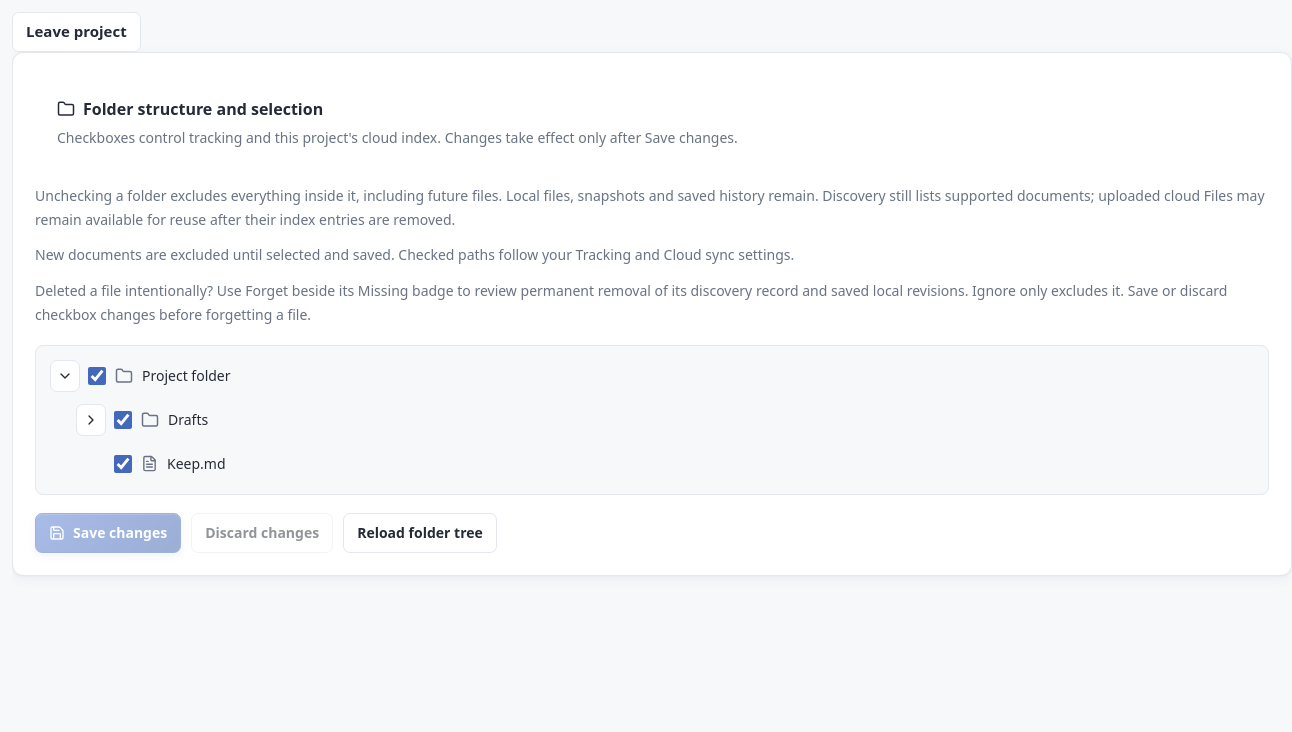
it: keeps checkbox edits local until Save, then verifies persistent folder exclusion
Click the checkbox named "Include Drafts" at coordinates (123, 420), box [114,411,132,429]
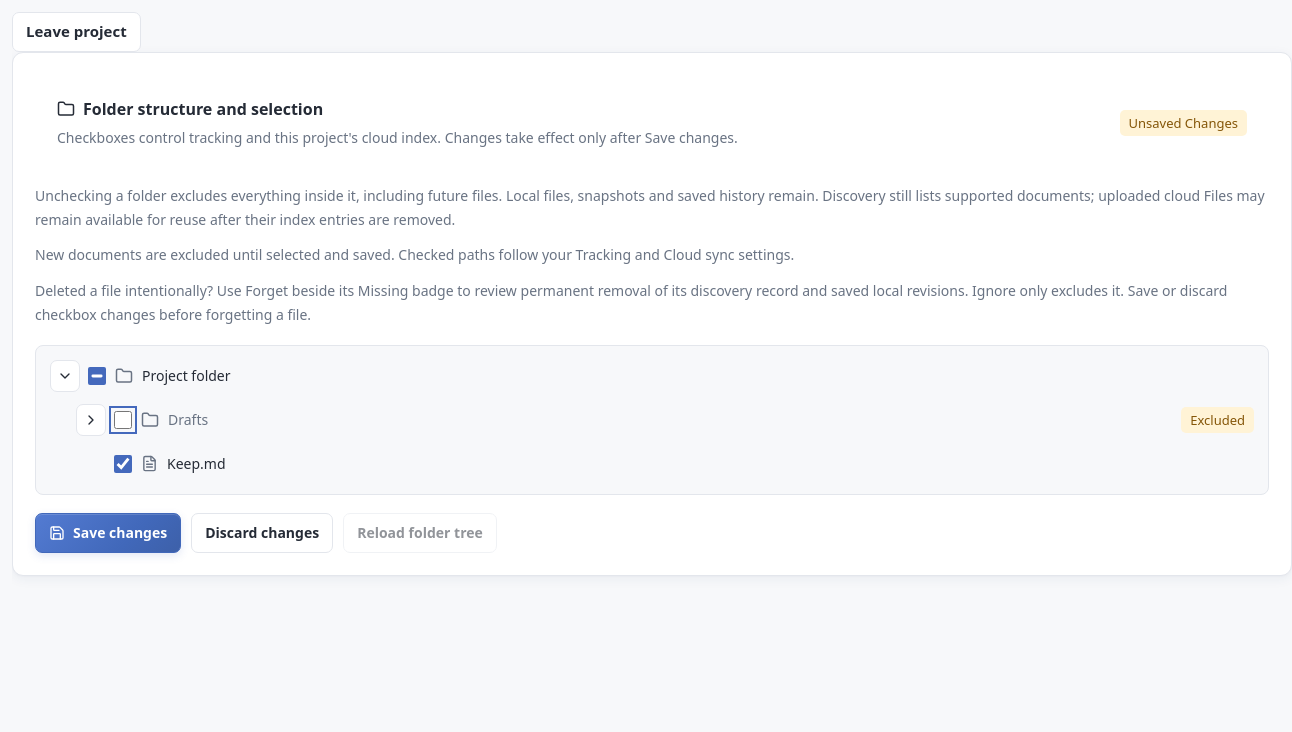
Now the text "Unsaved changes" is shown, box [1120,110,1247,136]
Click the button named "Expand Drafts" at coordinates (91, 420), box [76,404,106,436]
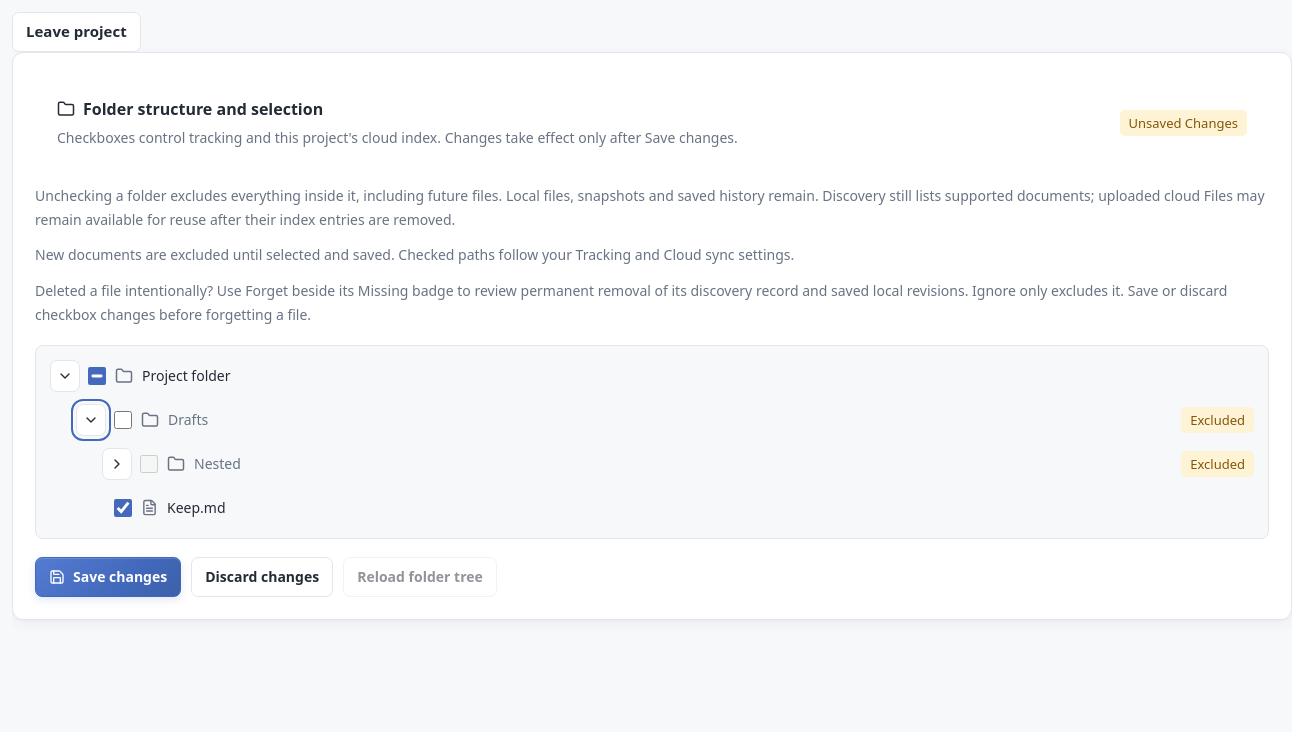
Now the checkbox named "Include Drafts/Nested" is disabled, box [140,455,158,473]
Click the button "Save changes" at coordinates (108, 577), box [35,557,181,597]
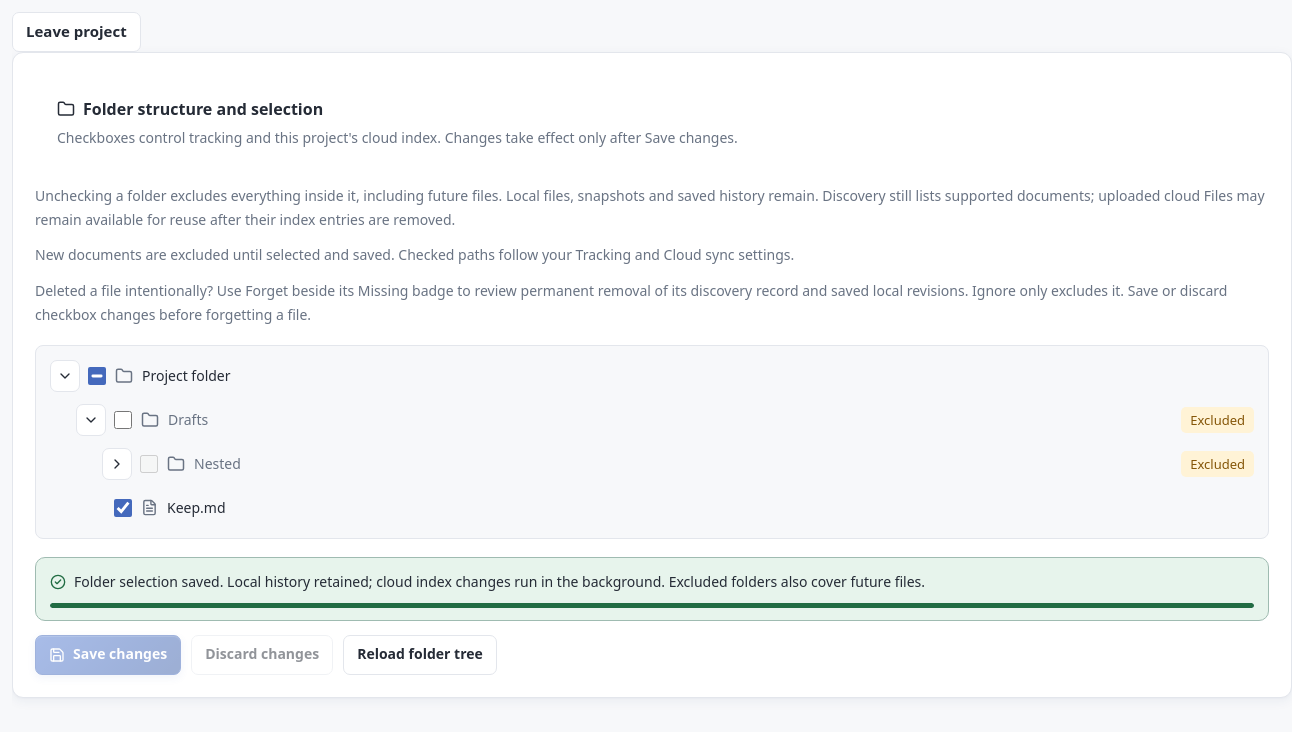
Now the text "Unsaved changes" is gone
